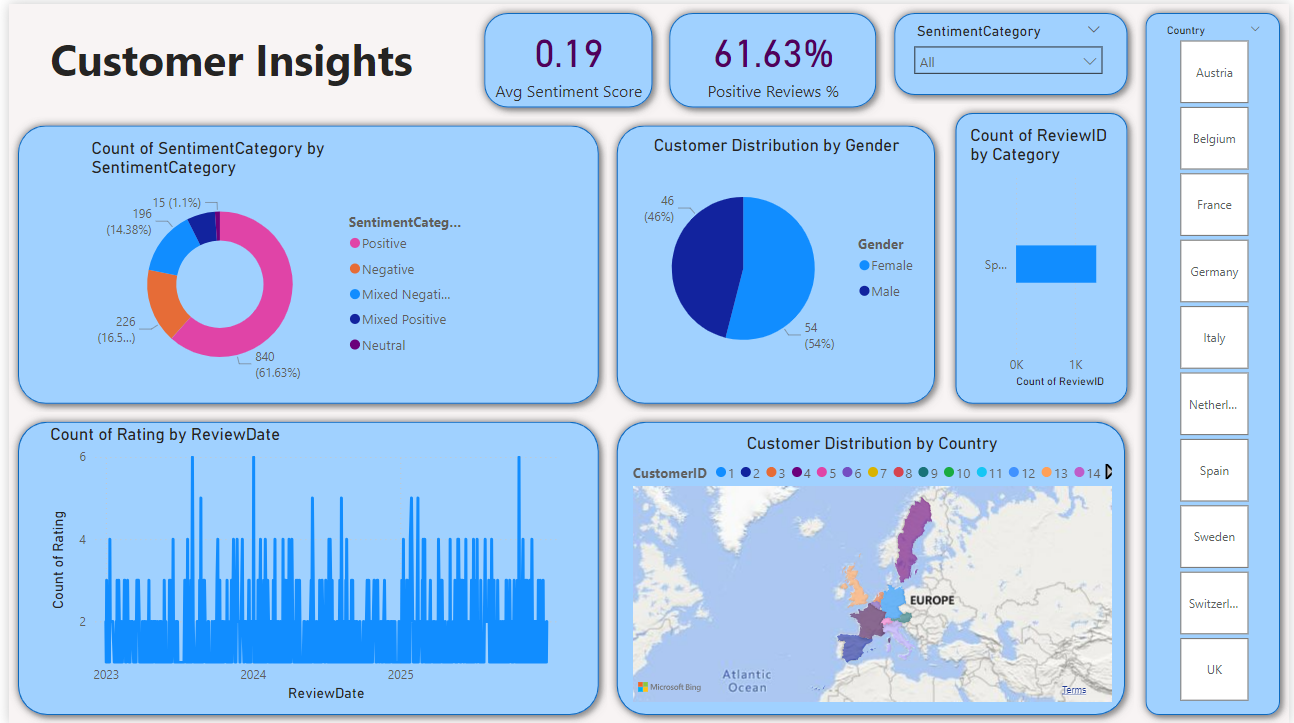

The dashboard page shown, as its layout file describes it:
{"tool":"powerbi","page":{"name":"Customer Demographics and Sentiment Analysis","canvas":[1280,720],"ordinal":1},"visuals":[{"type":"textbox","box":[36.2,21.2,672.5,72.5],"z":0},{"type":"shape","box":[0,112.5,598.8,296.2],"z":10001},{"type":"shape","box":[598.8,112.5,336.2,296.2],"z":10002},{"type":"shape","box":[598.8,408.8,526.2,311.2],"z":10003},{"type":"shape","box":[0,408.8,598.8,311.2],"z":10004},{"type":"donutChart","fields":{"Category":["reviews_with_sentiment_new.SentimentCategory"],"Y":["CountNonNull(reviews_with_sentiment_new.SentimentCategory)"]},"box":[77.5,133.8,386.2,255],"z":10005},{"type":"lineChart","fields":{"Category":["cleaned_reviews.ReviewDate"],"Y":["CountNonNull(cleaned_reviews.Rating)"]},"box":[36.2,420,528.8,282.5],"z":10006},{"type":"filledMap","title":"Customer Distribution by Country","fields":{"Category":["cleaned_customer_geography.Country"],"Series":["cleaned_reviews.CustomerID"]},"box":[618.8,428.8,488.8,273.8],"z":10008},{"type":"shape","box":[937.5,100,190,308.8],"z":10009},{"type":"clusteredBarChart","fields":{"Category":["cleaned_product.Category"],"Y":["CountNonNull(cleaned_reviews.ReviewID)"]},"box":[956.2,121.2,151.2,267.5],"z":10010},{"type":"pieChart","title":"Customer Distribution by Gender","fields":{"Category":["cleaned_customer_geography.Gender"],"Y":["CountNonNull(cleaned_customer_geography.CustomerID)"]},"box":[615,131.2,305,247.5],"z":10011},{"type":"shape","box":[466.2,0,186.2,112.5],"z":10012},{"type":"shape","box":[651.2,0,225,112.5],"z":10013},{"type":"shape","box":[876.2,0,251.2,100],"z":10014},{"type":"shape","box":[1127.5,0,152.5,720],"z":10015},{"type":"slicer","fields":{"Values":["cleaned_customer_geography.Country"]},"box":[1145,15,118.8,688.8],"z":10016},{"type":"slicer","fields":{"Values":["reviews_with_sentiment_new.SentimentCategory"]},"box":[895,13.8,208.8,72.5],"z":10017},{"type":"card","fields":{"Values":["cleaned_customer_geography.Avg Sentiment Score"]},"box":[480,7.5,160,98.8],"z":10018},{"type":"card","fields":{"Values":["cleaned_customer_geography.Positive Reviews %"]},"box":[665,13.8,198.8,86.2],"z":10019}]}

Visuals, with their boxes in screenshot pixels (x1, y1, x2, y2), scaled from the page's 1280x720 canvas onto the 1294x723 screenshot:
textbox: 37, 21, 716, 94
shape: 0, 113, 605, 410
shape: 605, 113, 945, 410
shape: 605, 411, 1137, 722
shape: 0, 411, 605, 722
donutChart - reviews_with_sentiment_new.SentimentCategory x CountNonNull(reviews_with_sentiment_new.SentimentCategory): 78, 134, 469, 390
lineChart - cleaned_reviews.ReviewDate x CountNonNull(cleaned_reviews.Rating): 37, 422, 571, 705
"Customer Distribution by Country" filledMap: 626, 431, 1120, 706
shape: 948, 100, 1140, 411
clusteredBarChart - cleaned_product.Category x CountNonNull(cleaned_reviews.ReviewID): 967, 122, 1120, 390
"Customer Distribution by Gender" pieChart: 622, 132, 930, 380
shape: 471, 0, 660, 113
shape: 658, 0, 886, 113
shape: 886, 0, 1140, 100
shape: 1140, 0, 1293, 722
slicer - cleaned_customer_geography.Country: 1158, 15, 1278, 707
slicer - reviews_with_sentiment_new.SentimentCategory: 905, 14, 1116, 87
card - cleaned_customer_geography.Avg Sentiment Score: 485, 8, 647, 107
card - cleaned_customer_geography.Positive Reviews %: 672, 14, 873, 100
